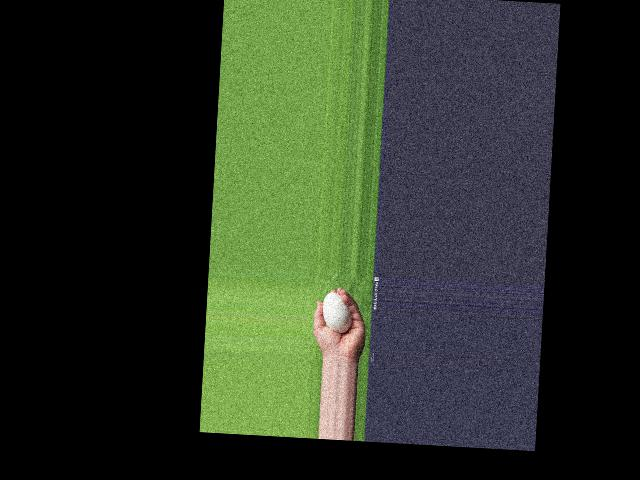egg: (321, 292, 354, 334)
